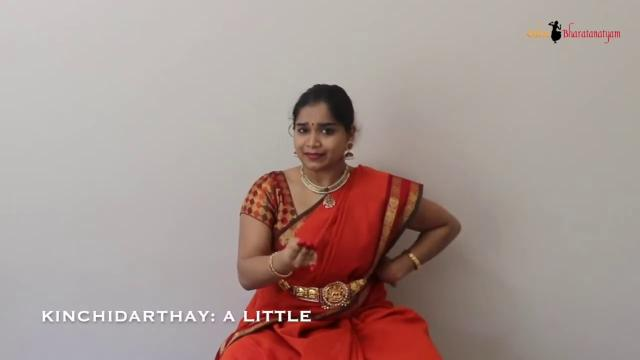chatur: (282, 221, 326, 287)
